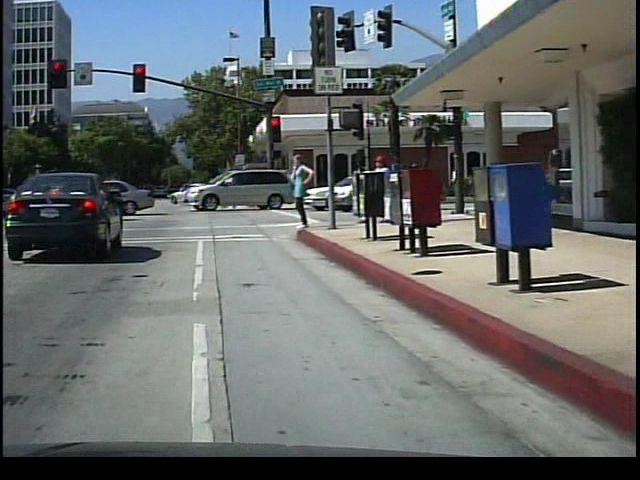person: (288, 147, 319, 232), (368, 149, 395, 224), (345, 149, 368, 213)
